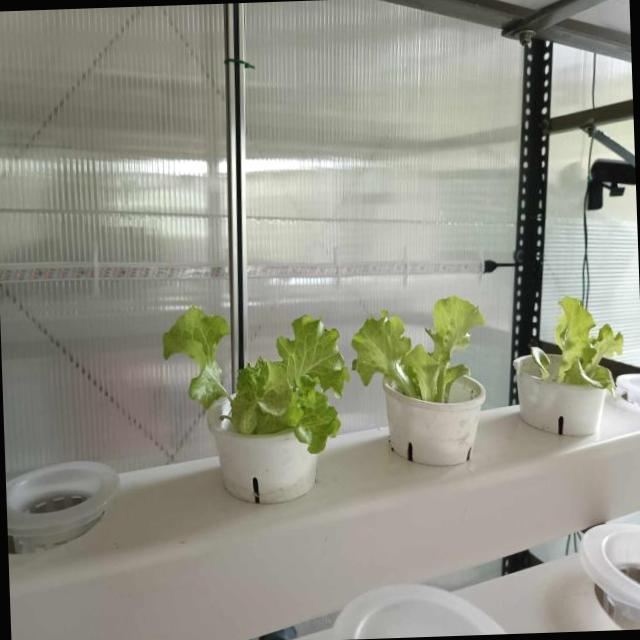Lettuce-Not-Ready-to-Harvest: (162, 305, 350, 453), (351, 295, 484, 403), (531, 295, 624, 394)
